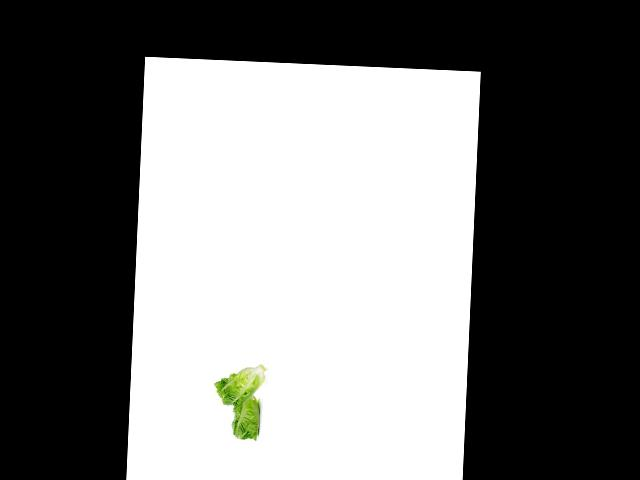lettuce: (215, 361, 270, 412)
